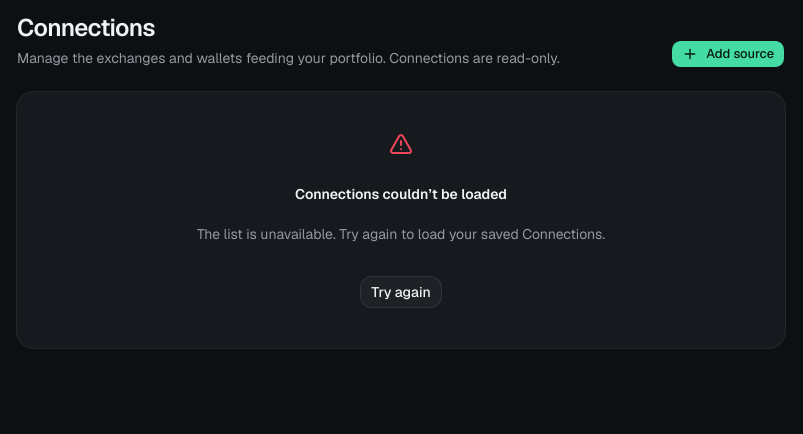
Test: ConnectionsPage › reports load failures and retries the list request
Check: the message shows "Connections couldn’t be loaded", box 295,185 -> 507,203
Click the button "Try again". click: (401, 292)
box: 360,276 -> 442,308
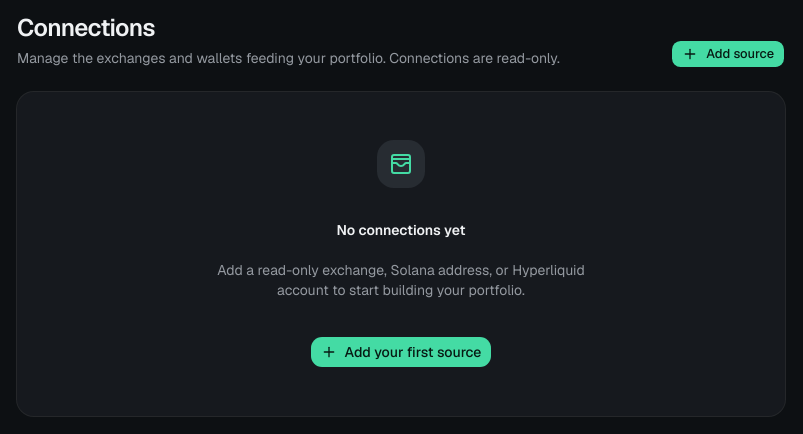
Check: the heading "No connections yet" is shown, box 336,220 -> 466,240
